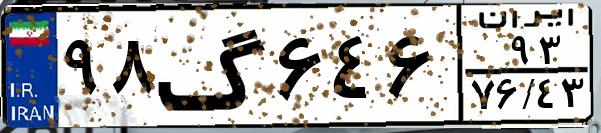3: (560, 70, 590, 125), (537, 27, 568, 80)
4: (330, 28, 385, 110), (535, 70, 560, 125)
6: (270, 28, 330, 110), (385, 28, 445, 110), (495, 70, 520, 125)
7: (470, 70, 495, 125)
8: (110, 28, 156, 98)
9: (57, 26, 110, 100), (508, 27, 537, 80)
گ: (156, 12, 270, 120)
